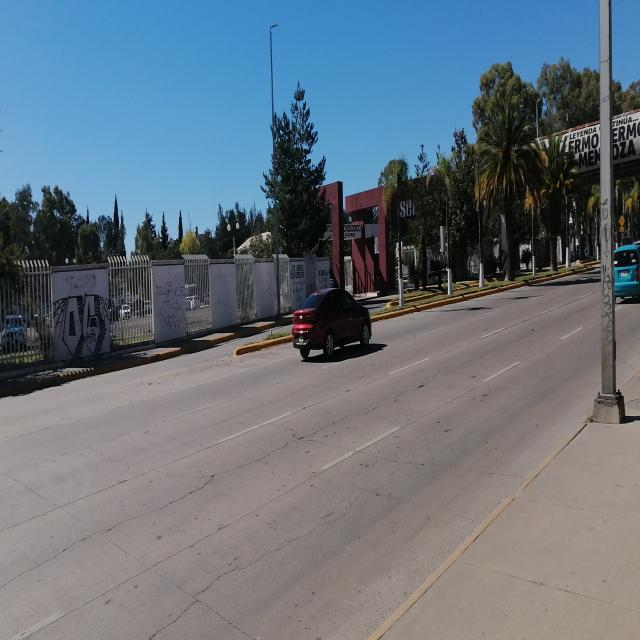Auto: (288, 281, 377, 364), (616, 240, 640, 300)
